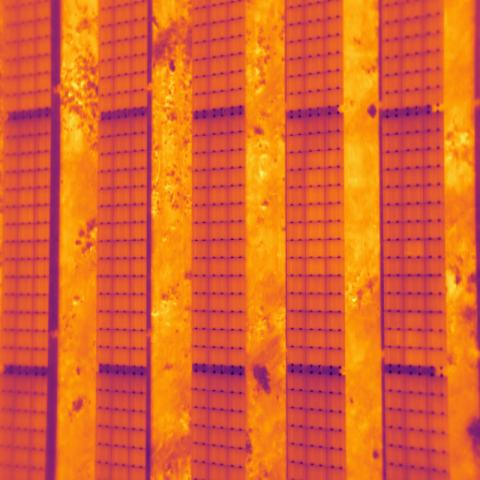fault: (403, 240, 425, 258)
